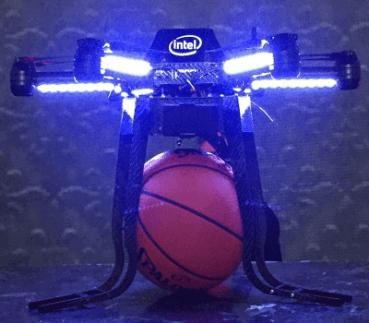drone: (15, 29, 369, 151)
